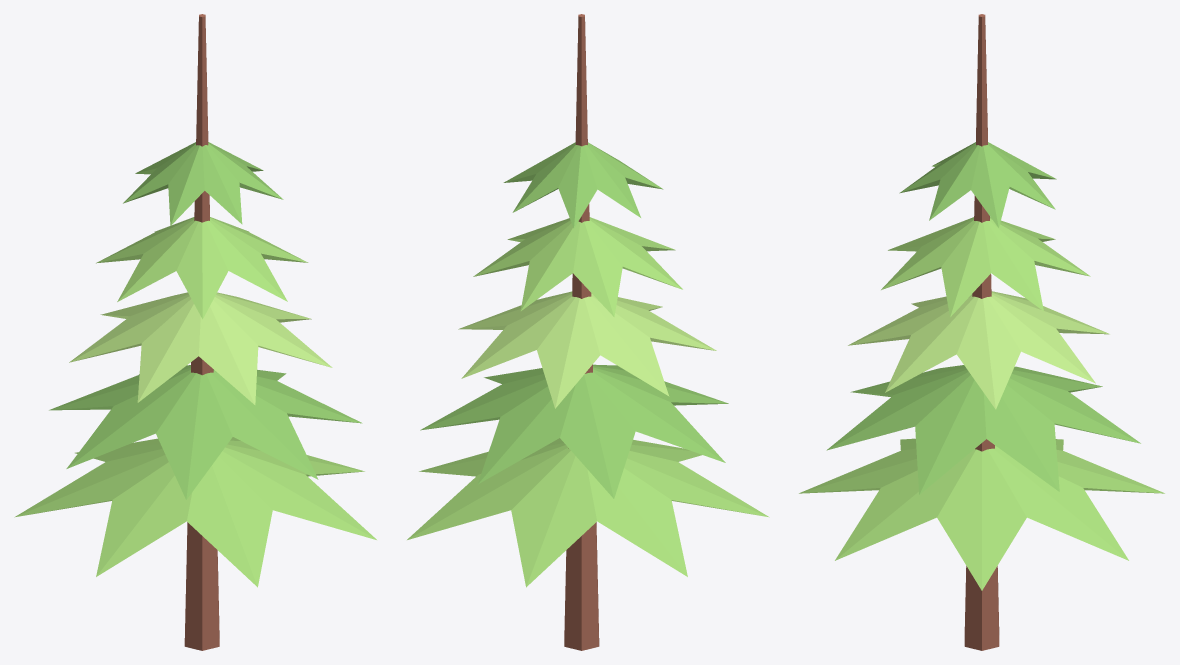
Rendered from pine-tall-0.glb.
The picture shows the model from 3 angles, left to right: view 1: azimuth 30°, elevation 25°; view 2: azimuth 150°, elevation 25°; view 3: azimuth 270°, elevation 25°; orthographic projection.
Visible parts, largest first — view 1: pine-tall-0-leaf2, pine-tall-0-leaf1, pine-tall-0-leaf4, pine-tall-0-barkred; view 2: pine-tall-0-leaf2, pine-tall-0-leaf1, pine-tall-0-leaf4, pine-tall-0-barkred; view 3: pine-tall-0-leaf2, pine-tall-0-leaf1, pine-tall-0-leaf4, pine-tall-0-barkred.
Part boxes in pixels (bbox=[...]): pine-tall-0-leaf2: bbox=[14, 217, 376, 587]; pine-tall-0-leaf1: bbox=[49, 142, 362, 499]; pine-tall-0-leaf4: bbox=[69, 292, 332, 404]; pine-tall-0-barkred: bbox=[184, 14, 219, 650]; pine-tall-0-leaf2: bbox=[407, 217, 769, 587]; pine-tall-0-leaf1: bbox=[420, 142, 728, 498]; pine-tall-0-leaf4: bbox=[458, 291, 716, 408]; pine-tall-0-barkred: bbox=[564, 14, 599, 650]; pine-tall-0-leaf2: bbox=[799, 217, 1164, 590]; pine-tall-0-leaf1: bbox=[826, 142, 1140, 494]; pine-tall-0-leaf4: bbox=[848, 291, 1109, 409]; pine-tall-0-barkred: bbox=[964, 14, 999, 650].
Bounding box in the file's own units: 2.85 × 5.5 × 2.92.
